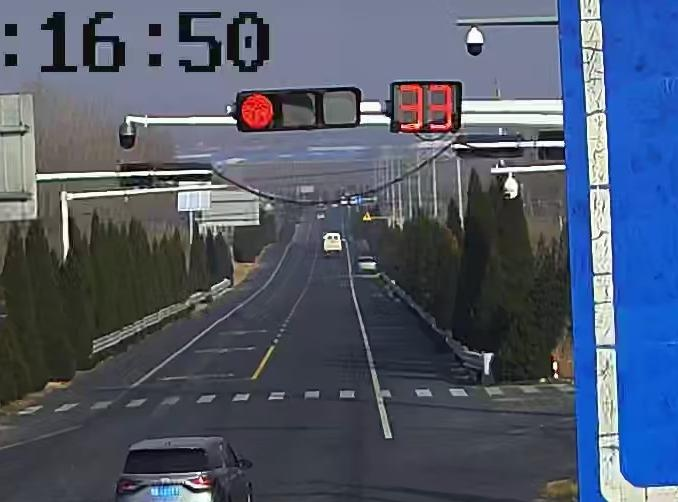red: (237, 93, 277, 131)
redtime: (395, 80, 458, 132)
